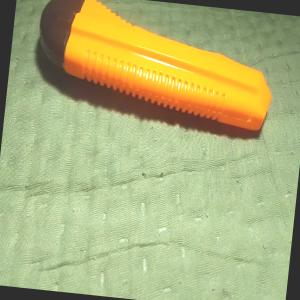estilete: (28, 0, 279, 131)
